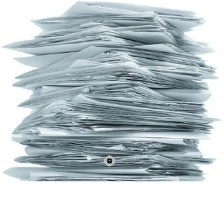book: (0, 0, 224, 186)
